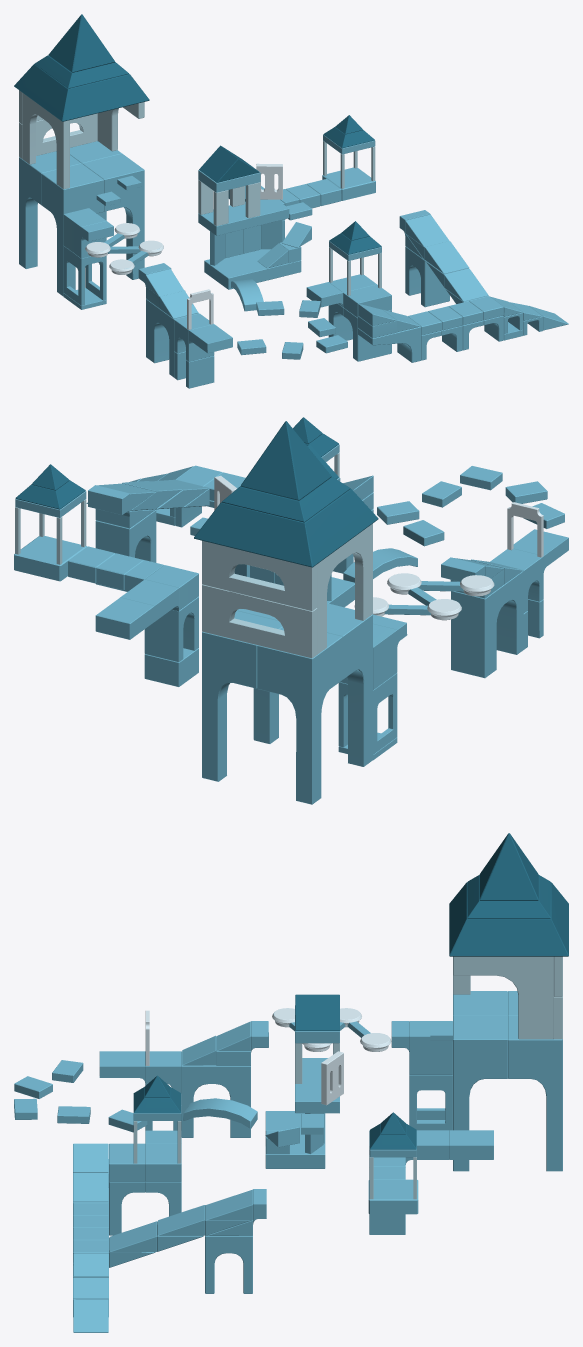
The model's file is castle.fbx.
3 views of the same model, one above another, from view 1: azimuth 30°, elevation 25°; view 2: azimuth 150°, elevation 25°; view 3: azimuth 270°, elevation 25° (orthographic). The views are drawn at different scales.
Parts seen in each view (by area): view 1: castle; view 2: castle; view 3: castle.
Boxes of the visible parts, box(x1,y1,x2,y2) form: castle: box(14, 14, 568, 388); castle: box(14, 417, 568, 804); castle: box(14, 833, 568, 1332).
Size of the model in its own units: 20.62 by 13.59 by 21.76.
